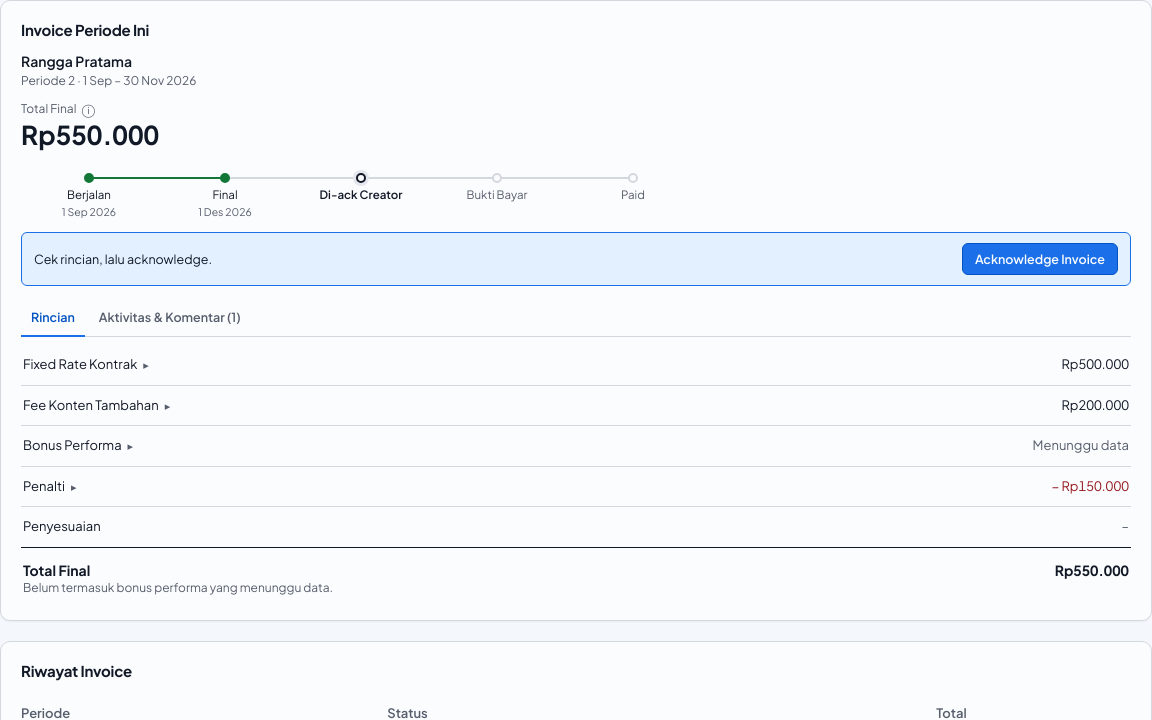
Scenario: CreatorInvoices › the creator's moves › acknowledges the current invoice from its turn banner, then reads the invoices again and says so
Click the button "Acknowledge Invoice" at (1040, 259), box [962,242,1118,275]
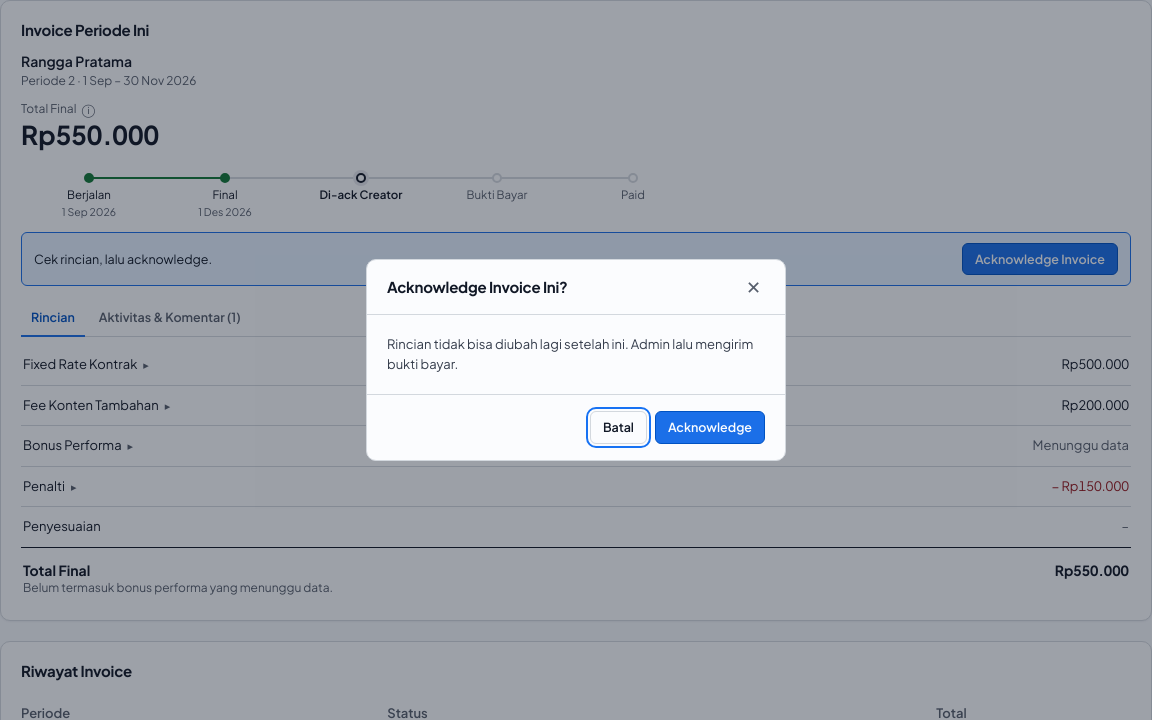
Click the button "Acknowledge" at (710, 428), box [655,411,765,444]
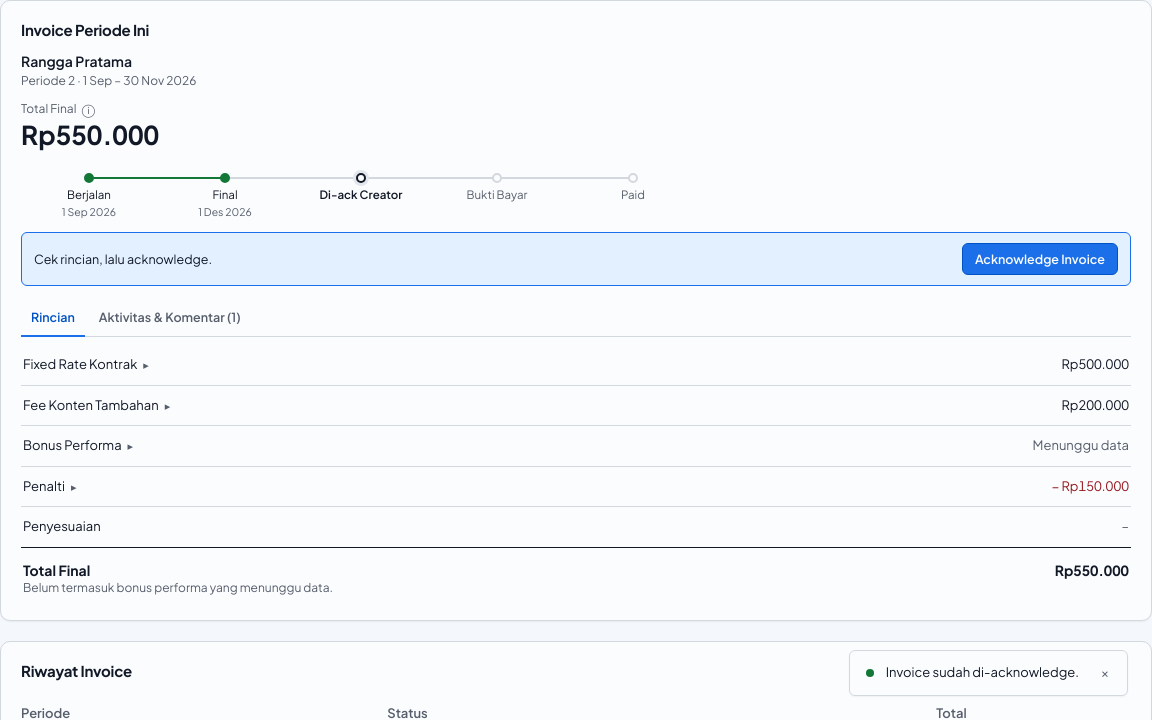
Expected: the text "Invoice sudah di-acknowledge." is shown, [886,663,1079,683]
